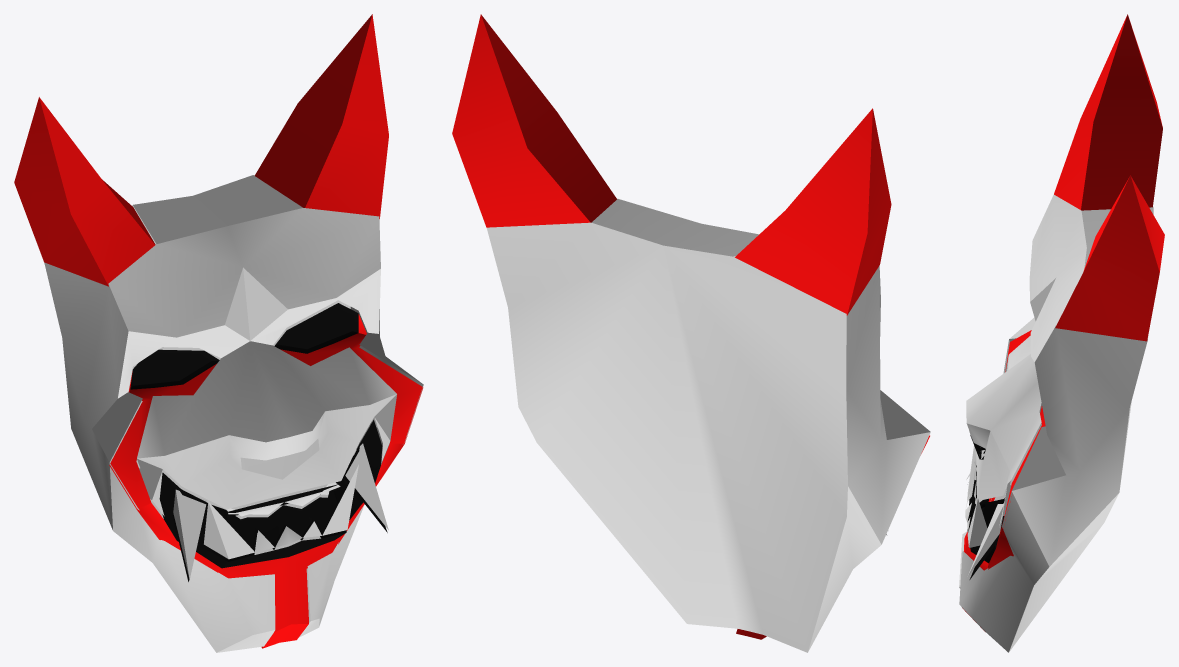
Rendered from mask_oni_basic.glb.
3 views of the same model, side by side, from view 1: azimuth 30°, elevation 25°; view 2: azimuth 150°, elevation 25°; view 3: azimuth 270°, elevation 25° (orthographic). The views are drawn at different scales.
Parts seen in each view (by area): view 1: 2.030, 1.058, 0.095; view 2: 2.030, 1.058; view 3: 2.030, 1.058, 0.095.
Boxes of the visible parts, x1,y1,x2,y2 form: 2.030: (44,175,423,652); 1.058: (14,14,423,648); 0.095: (130,303,387,581); 2.030: (486,198,930,652); 1.058: (452,14,929,639); 2.030: (959,194,1153,652); 1.058: (962,14,1164,631); 0.095: (967,435,1004,579).
Bounding box in the file's own units: 0.3548 × 0.5162 × 0.1807.
